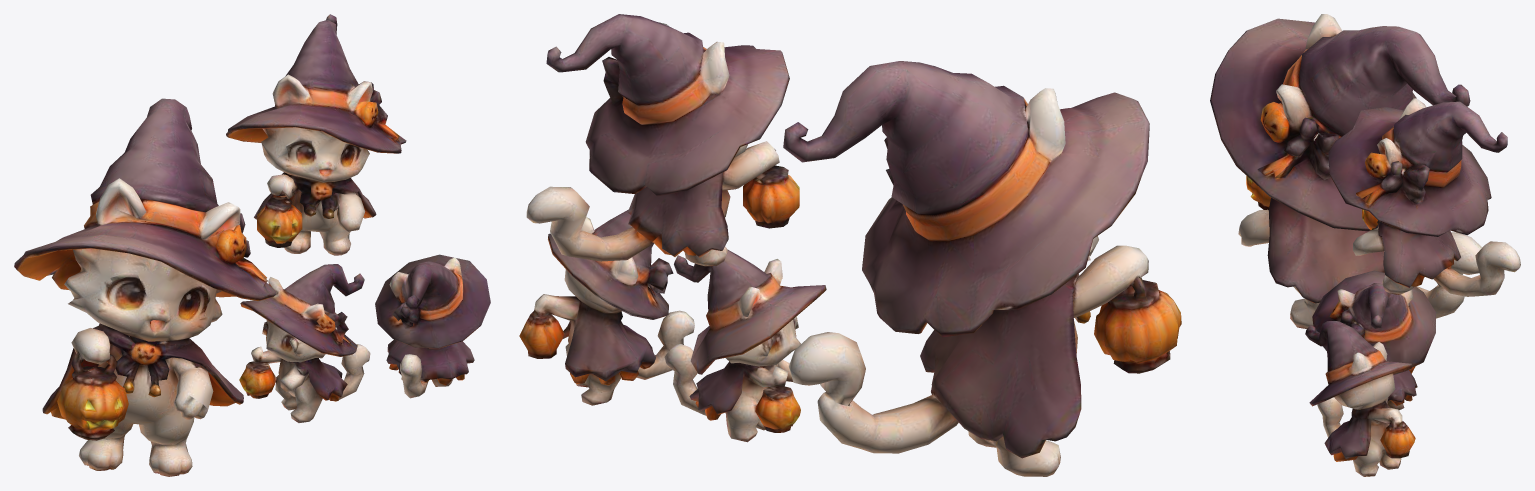
Rendered from halloween-cat-mascot.glb.
The picture shows the model from 3 angles, left to right: view 1: azimuth 30°, elevation 25°; view 2: azimuth 150°, elevation 25°; view 3: azimuth 270°, elevation 25°; orthographic projection. The views are drawn at different scales.
Visible parts, largest first — view 1: Mascot_HalloweenCat; view 2: Mascot_HalloweenCat; view 3: Mascot_HalloweenCat.
Part boxes in pixels (x1,y1,x2,y2): Mascot_HalloweenCat: [14, 14, 490, 476]; Mascot_HalloweenCat: [519, 14, 1181, 476]; Mascot_HalloweenCat: [1210, 14, 1520, 476].
Size of the model in its own units: 1.5 by 1.08 by 0.9034.
Materials: 1 (1 with a texture image).
